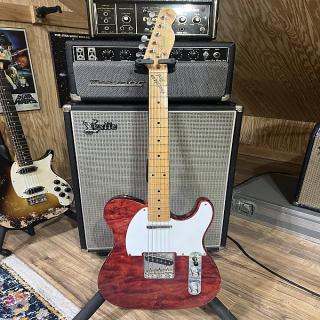Fender Telecaster: (97, 6, 222, 316)
SS: (139, 220, 181, 270)
